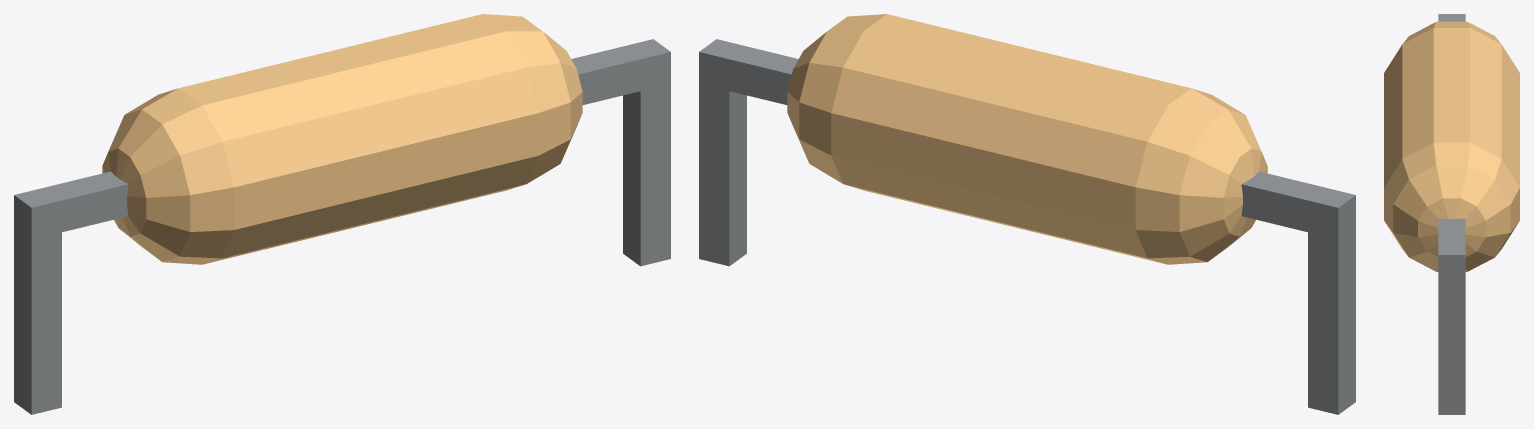
The model's file is resistor_texture.obj.
The picture shows the model from 3 angles, left to right: view 1: azimuth 30°, elevation 25°; view 2: azimuth 150°, elevation 25°; view 3: azimuth 270°, elevation 25°; orthographic projection. The views are drawn at different scales.
Parts seen in each view (by area): view 1: body, mesh, sphere; view 2: body, mesh, sphere; view 3: body, sphere, mesh.
Boxes of the visible parts, bbox=[...] form: body: bbox=[179, 14, 538, 264]; mesh: bbox=[14, 39, 670, 414]; sphere: bbox=[102, 14, 582, 264]; body: bbox=[831, 14, 1190, 264]; mesh: bbox=[699, 39, 1355, 414]; sphere: bbox=[787, 14, 1267, 264]; body: bbox=[1384, 28, 1519, 187]; sphere: bbox=[1384, 21, 1519, 271]; mesh: bbox=[1438, 14, 1465, 414].
Bounding box in the file's own units: 0.6562 × 0.2656 × 0.1562.
1 material, 1 textured.
